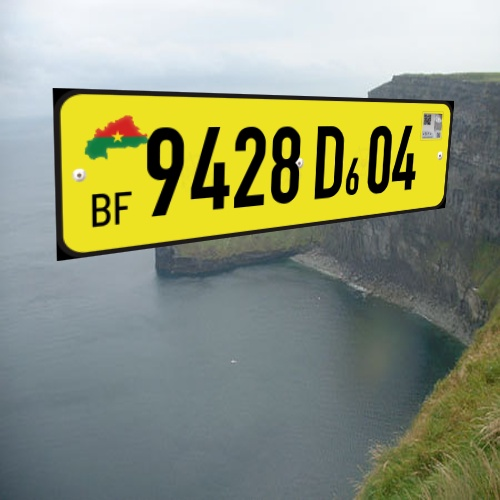plate: (39, 75, 469, 282)
